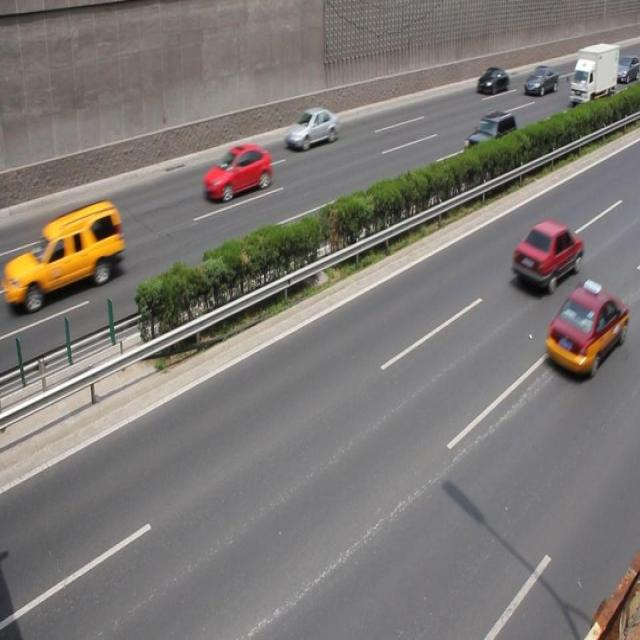bus: (568, 43, 620, 105)
car: (22, 201, 124, 309), (542, 282, 624, 376), (508, 220, 582, 294), (202, 143, 270, 203), (464, 111, 516, 165), (285, 107, 337, 150), (521, 63, 558, 98), (475, 65, 508, 96)
